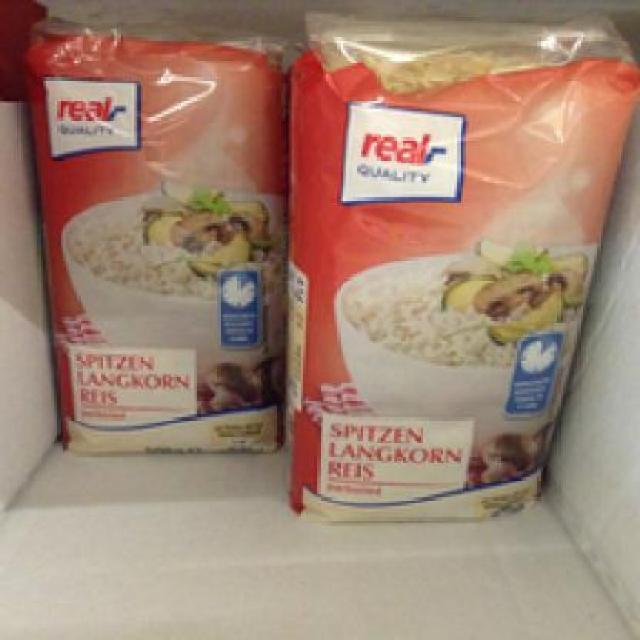Rice: (279, 6, 632, 520), (23, 14, 283, 452)
